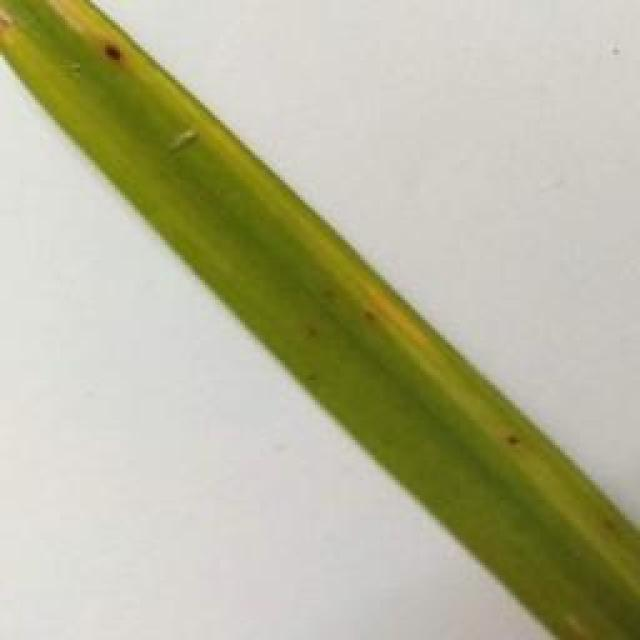Brown_Spot: (84, 31, 134, 74), (361, 310, 391, 335), (506, 422, 526, 458)
